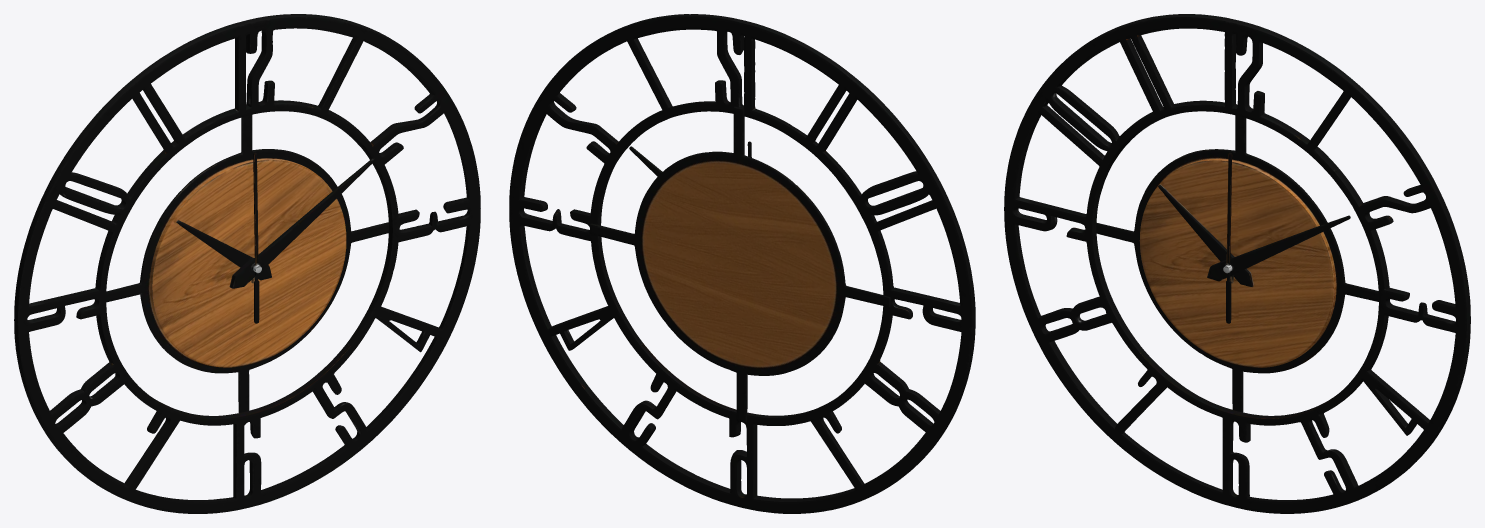
Rendered from Clock1.glb.
3 renders of one model, left to right at view 1: azimuth 30°, elevation 25°; view 2: azimuth 150°, elevation 25°; view 3: azimuth 330°, elevation 25°, orthographic.
Size of the model in its own units: 1.9 by 1.9 by 0.1011.
1 material, 1 textured.
